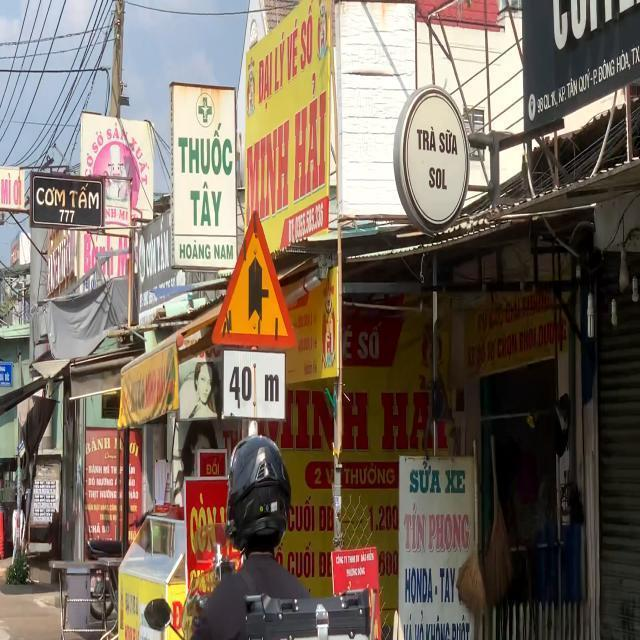207-giao-nhau-voi-duong-khong-uu-tien: (207, 210, 297, 346)
